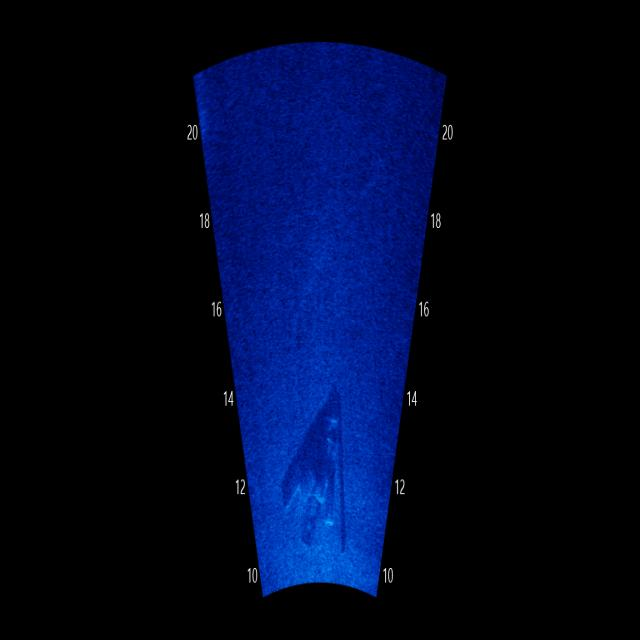triangle: (272, 340, 361, 564)
